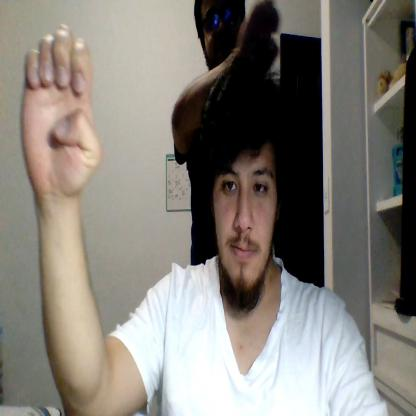E: (20, 22, 102, 195)
